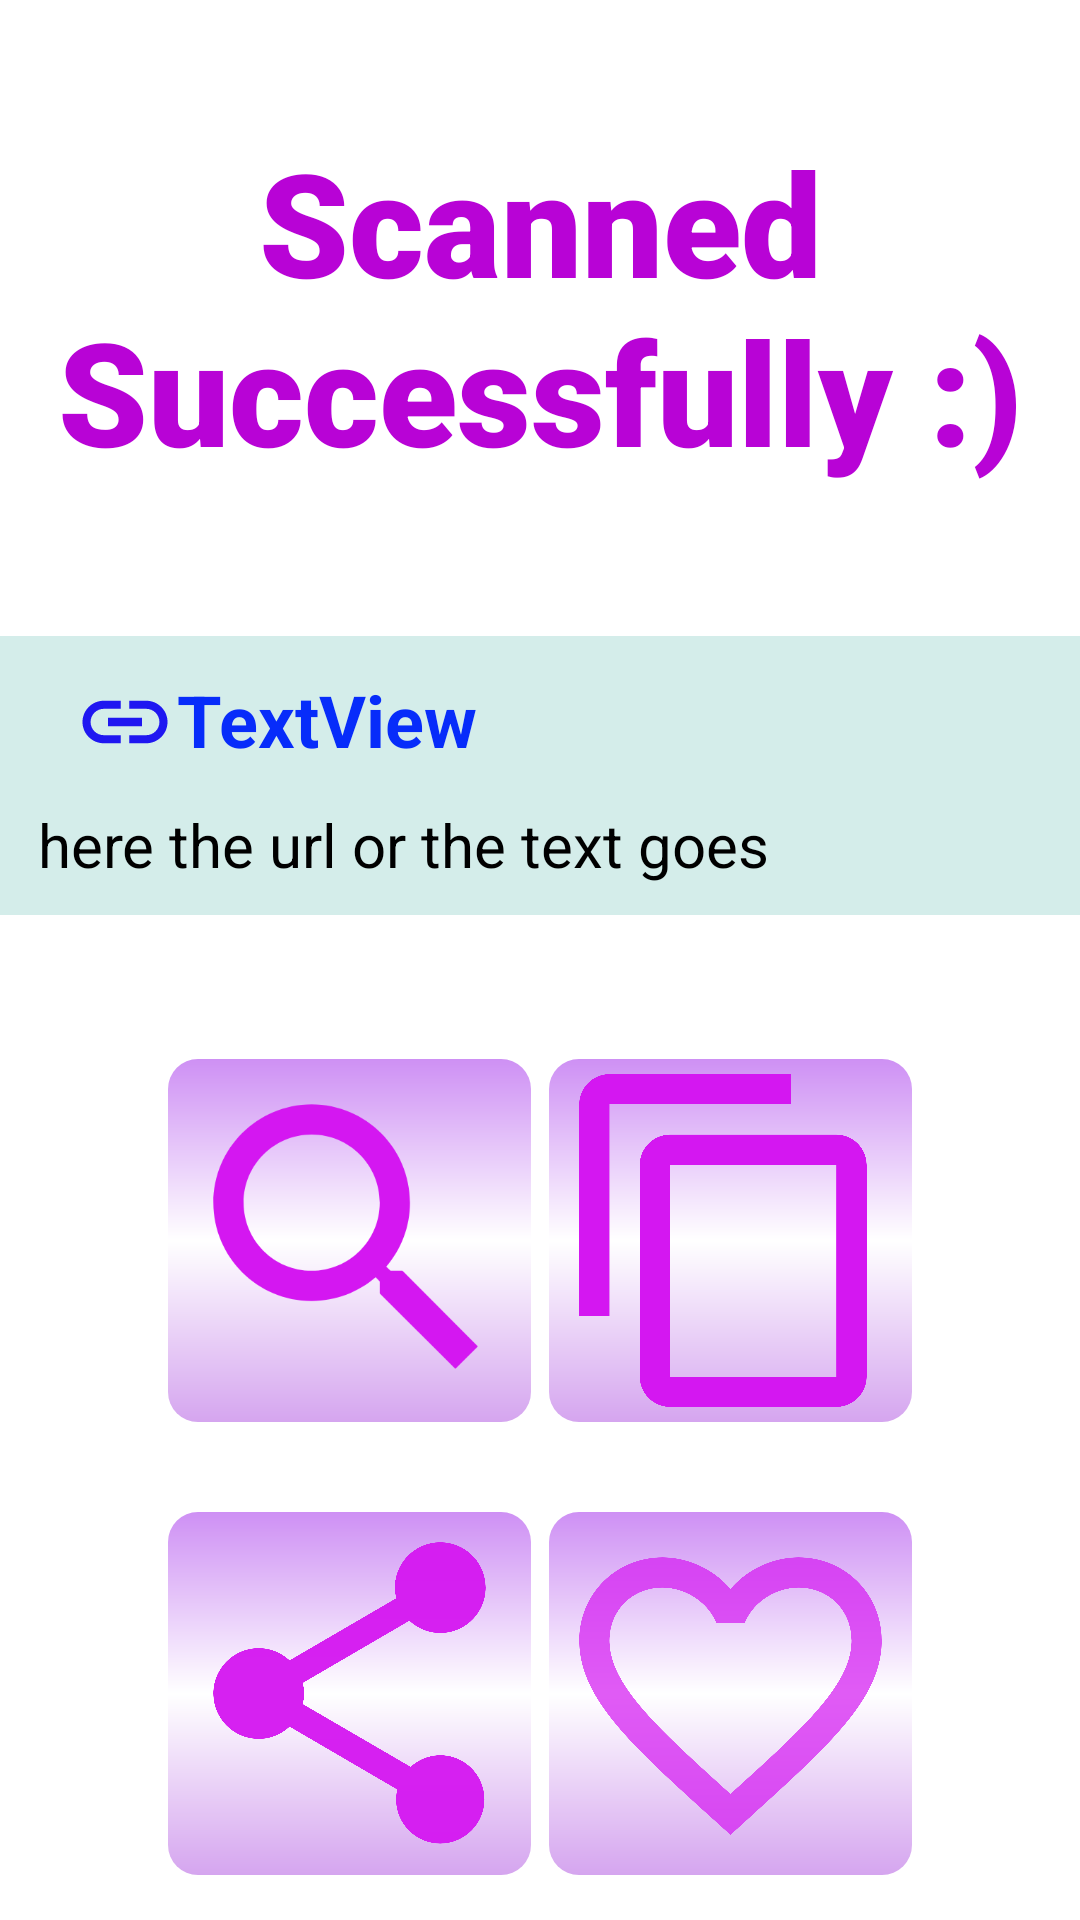

Locate icon controls on the screen. Image size 1080*1920, boxes as (x1=x1, y1=y1, x2=x2, y2=y2).
link: (x1=82, y1=700, x2=168, y2=744)
